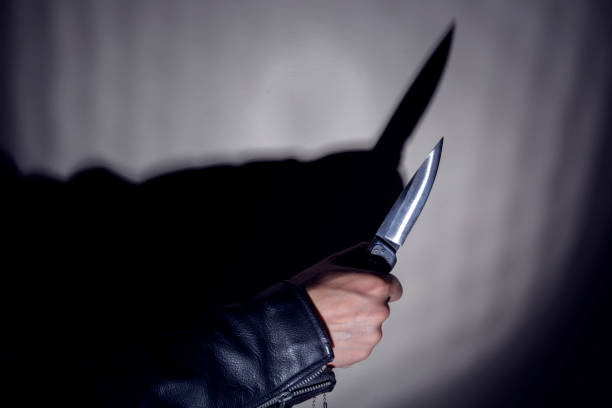knife: (352, 134, 446, 285)
